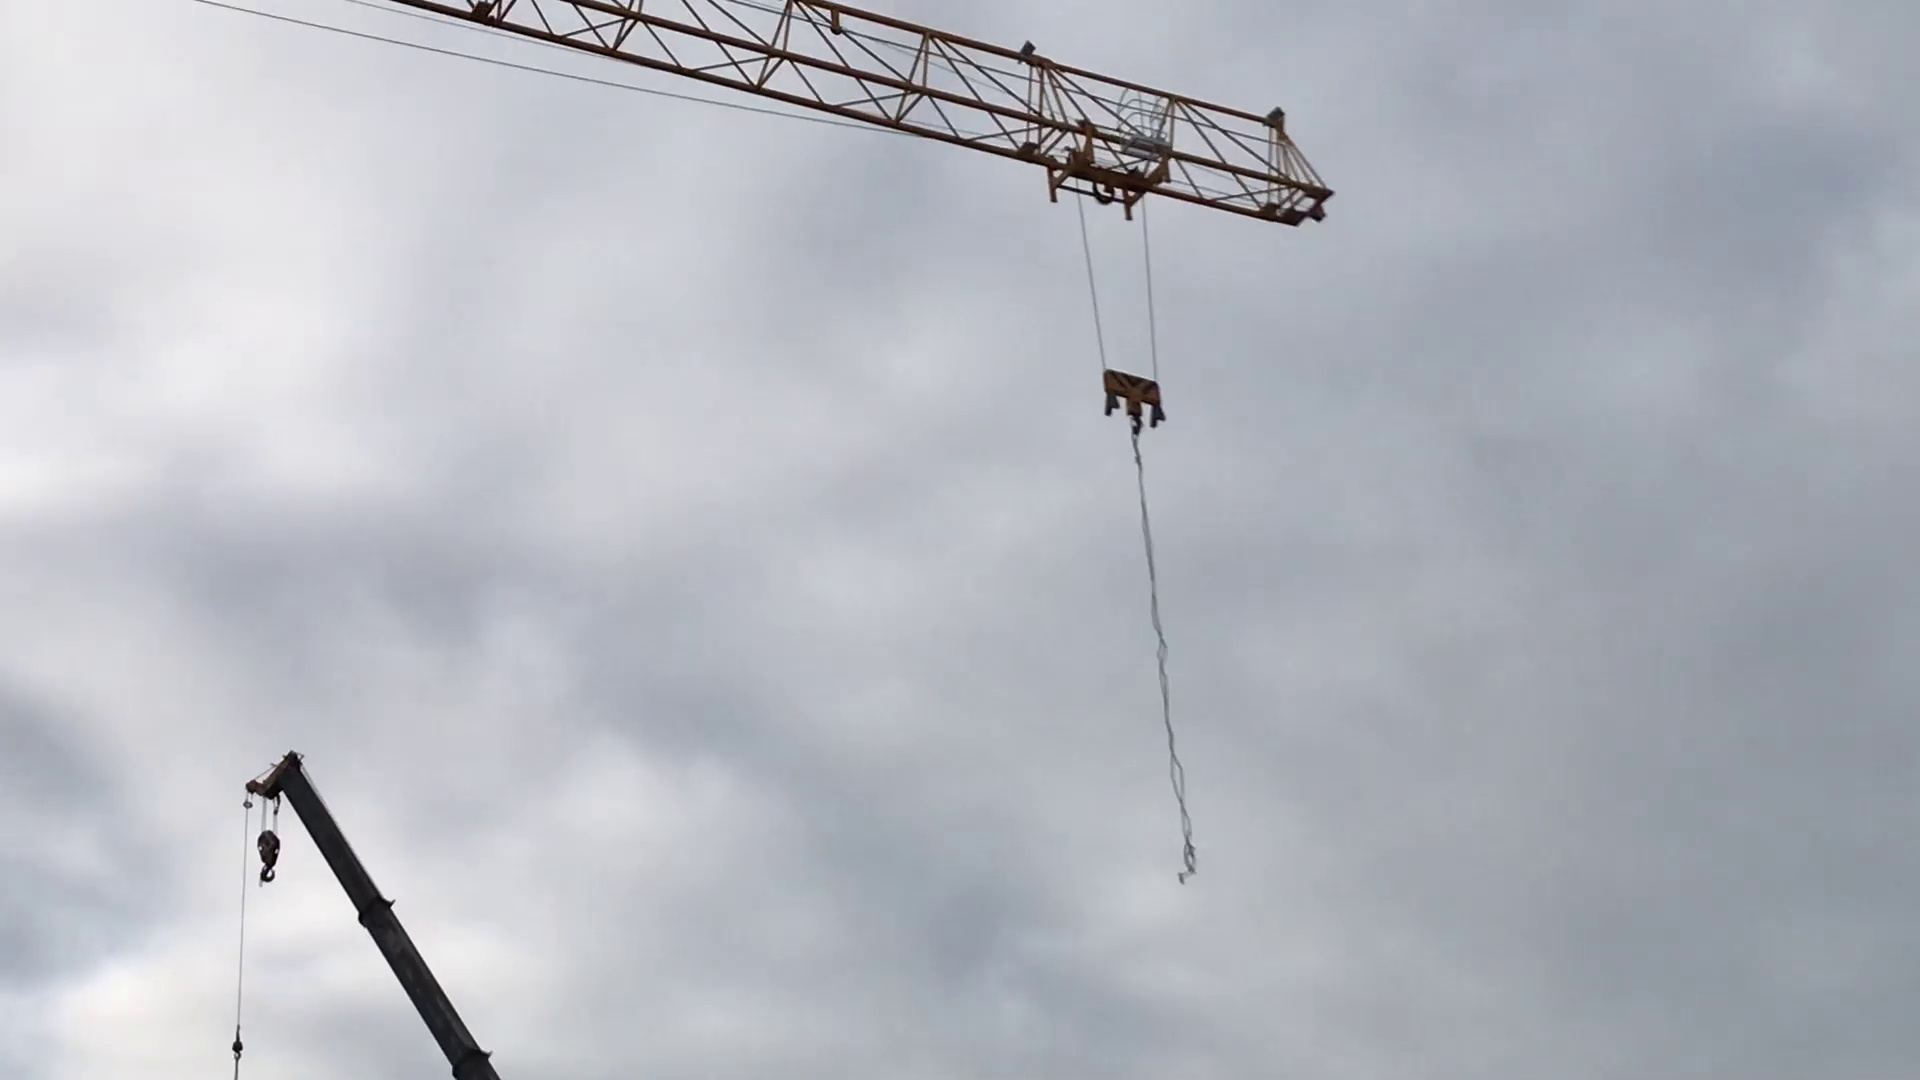hook: (1097, 363, 1178, 434), (247, 823, 298, 884)
